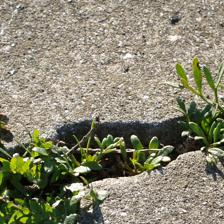Crack: (30, 59, 179, 125)
